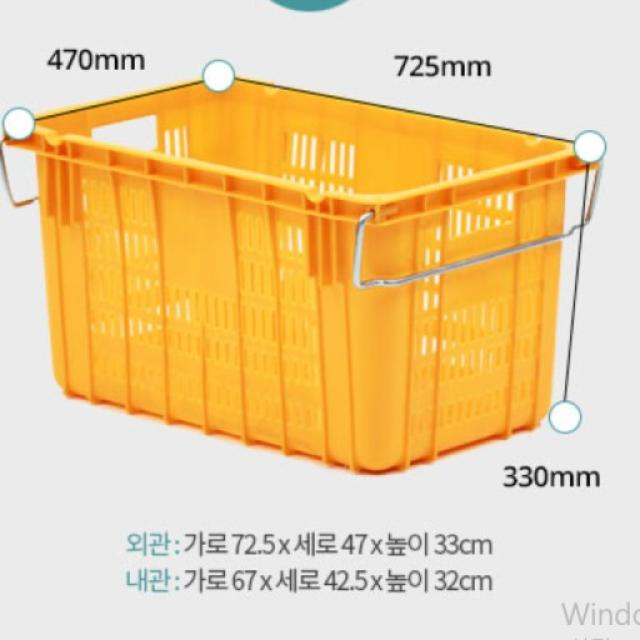basket: (0, 39, 600, 505)
